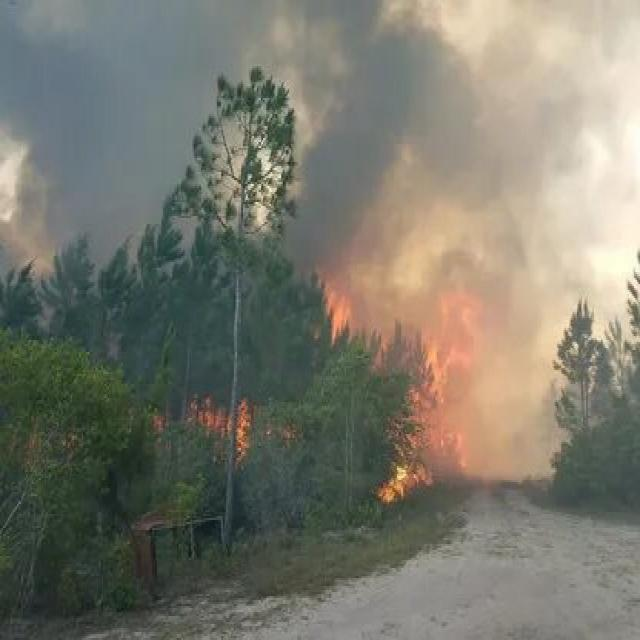Fire: (316, 266, 507, 522)
Smoke: (287, 0, 639, 271)
